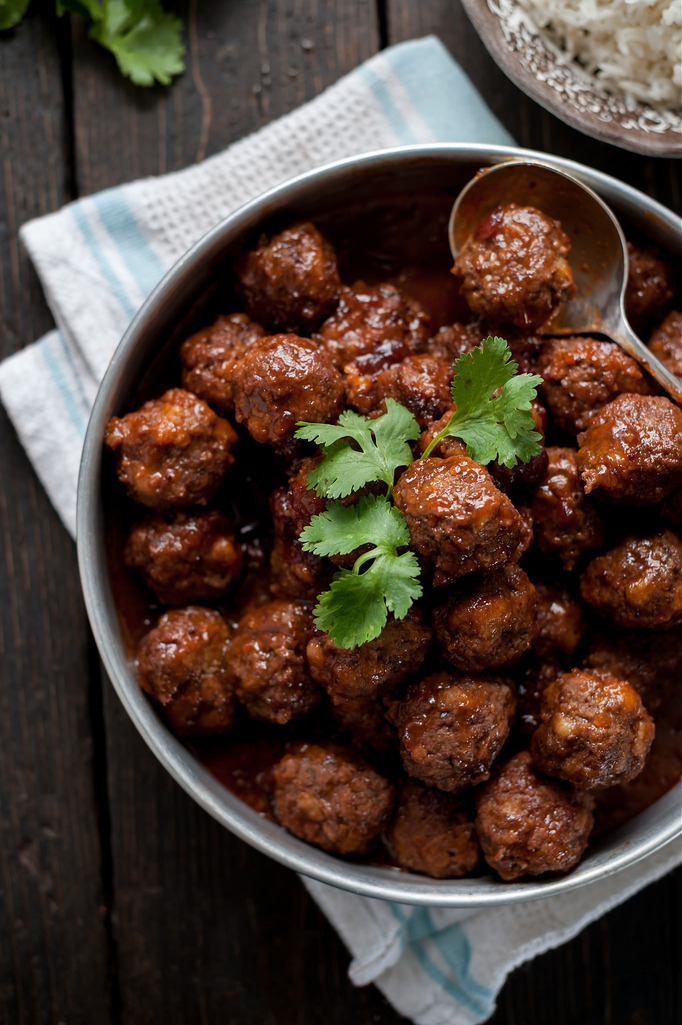meatballs: (136, 216, 661, 837)
